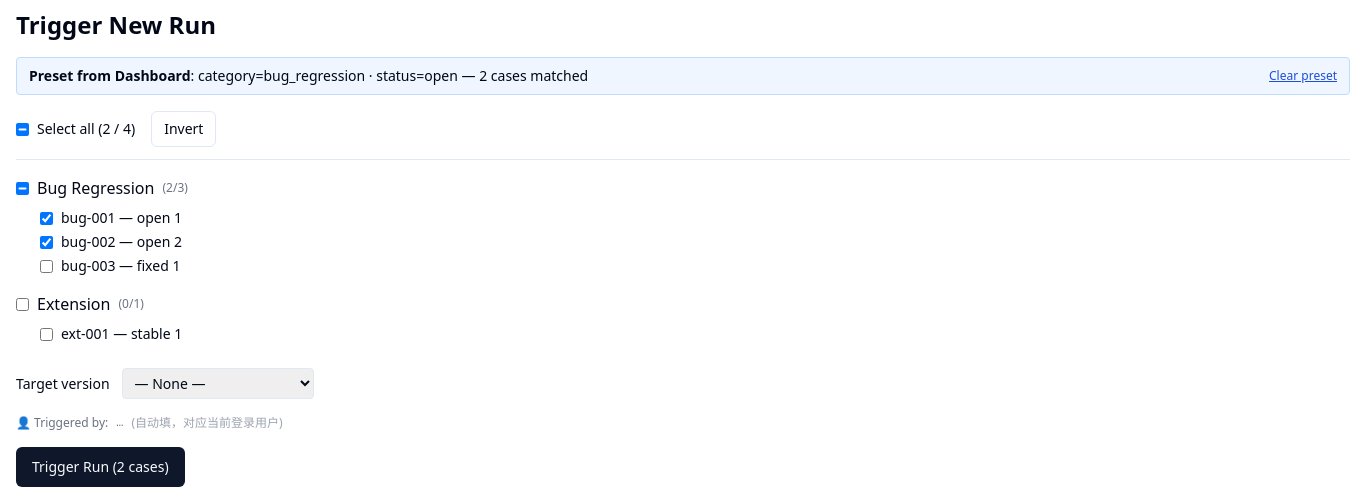
it: RunNewPage M5-5 — URL preset (?category=X&status=Y) › Clear preset button removes URL params + deselects all
Expected: the element with test id "preset-banner" is shown, [16,57,1350,95]
Expected: the text "Select all (2 / 4)" is shown, [37,119,135,139]
Click the button with test id "preset-banner-clear" at (1303, 76), box [1269,68,1337,84]
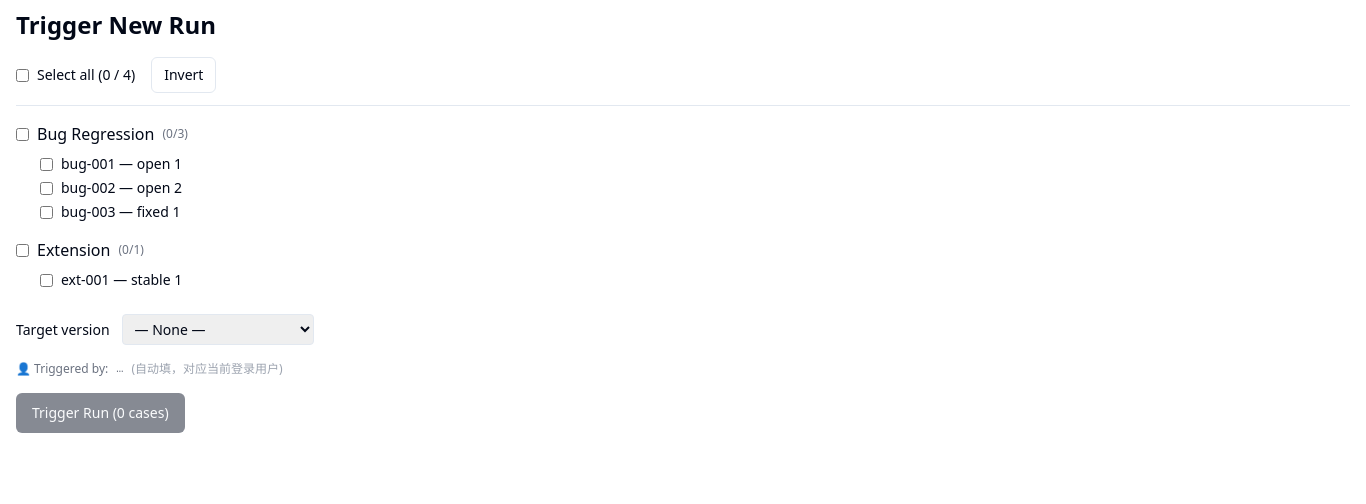
Now the element with test id "preset-banner" is gone
Now the text "Select all (0 / 4)" is shown, box [37,65,135,85]
